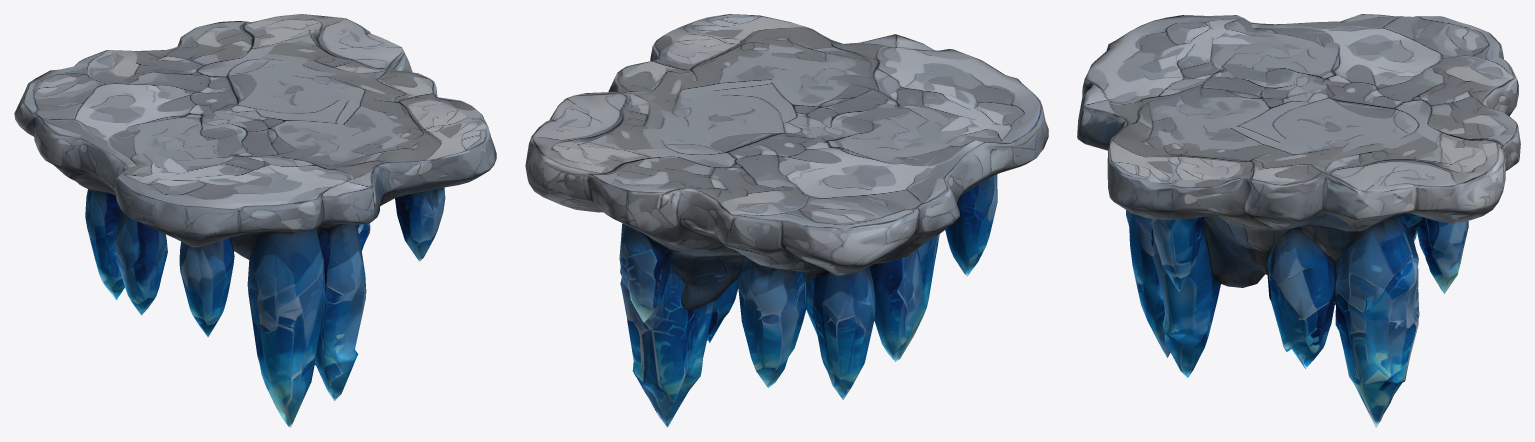
File: Crystal Floor.fbx
3 views of the same model, side by side, from view 1: azimuth 30°, elevation 25°; view 2: azimuth 150°, elevation 25°; view 3: azimuth 270°, elevation 25° (orthographic). The views are drawn at different scales.
Parts seen in each view (by area): view 1: tripo_node_dfb0b150; view 2: tripo_node_dfb0b150; view 3: tripo_node_dfb0b150.
Part boxes in pixels (x1=…): tripo_node_dfb0b150: x1=14, y1=14, x2=496, y2=427; tripo_node_dfb0b150: x1=525, y1=14, x2=1048, y2=427; tripo_node_dfb0b150: x1=1077, y1=14, x2=1520, y2=427.
Size of the model in its own units: 0.9837 by 0.7135 by 1.
